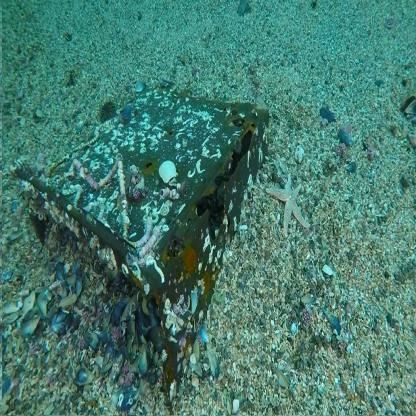electronics: (39, 75, 285, 402)
